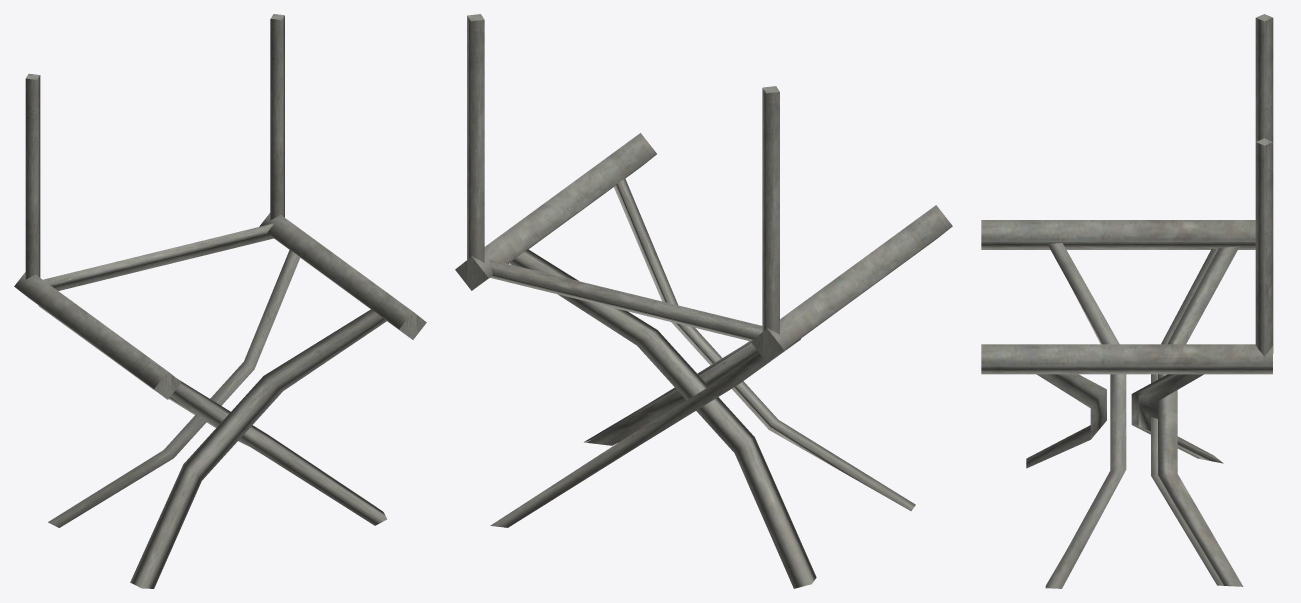
Rendered from eqp_camping_chair_s1_l1.fbx.
The picture shows the model from 3 angles, left to right: view 1: azimuth 30°, elevation 25°; view 2: azimuth 150°, elevation 25°; view 3: azimuth 270°, elevation 25°; orthographic projection. The views are drawn at different scales.
Parts seen in each view (by area): view 1: mesh_node; view 2: mesh_node; view 3: mesh_node.
Boxes of the visible parts, box(x1,y1,x2,y2) form: mesh_node: box(14, 14, 426, 588); mesh_node: box(455, 14, 952, 588); mesh_node: box(981, 14, 1273, 588).
Size of the model in its own units: 0.5621 by 0.8489 by 0.5232.
Materials: 1 (1 with a texture image).
